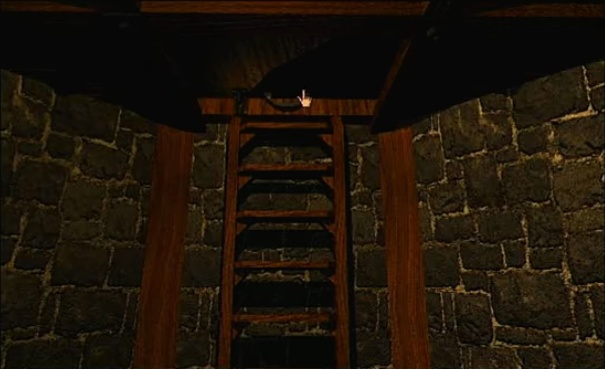Pointer: (294, 85, 316, 109)
